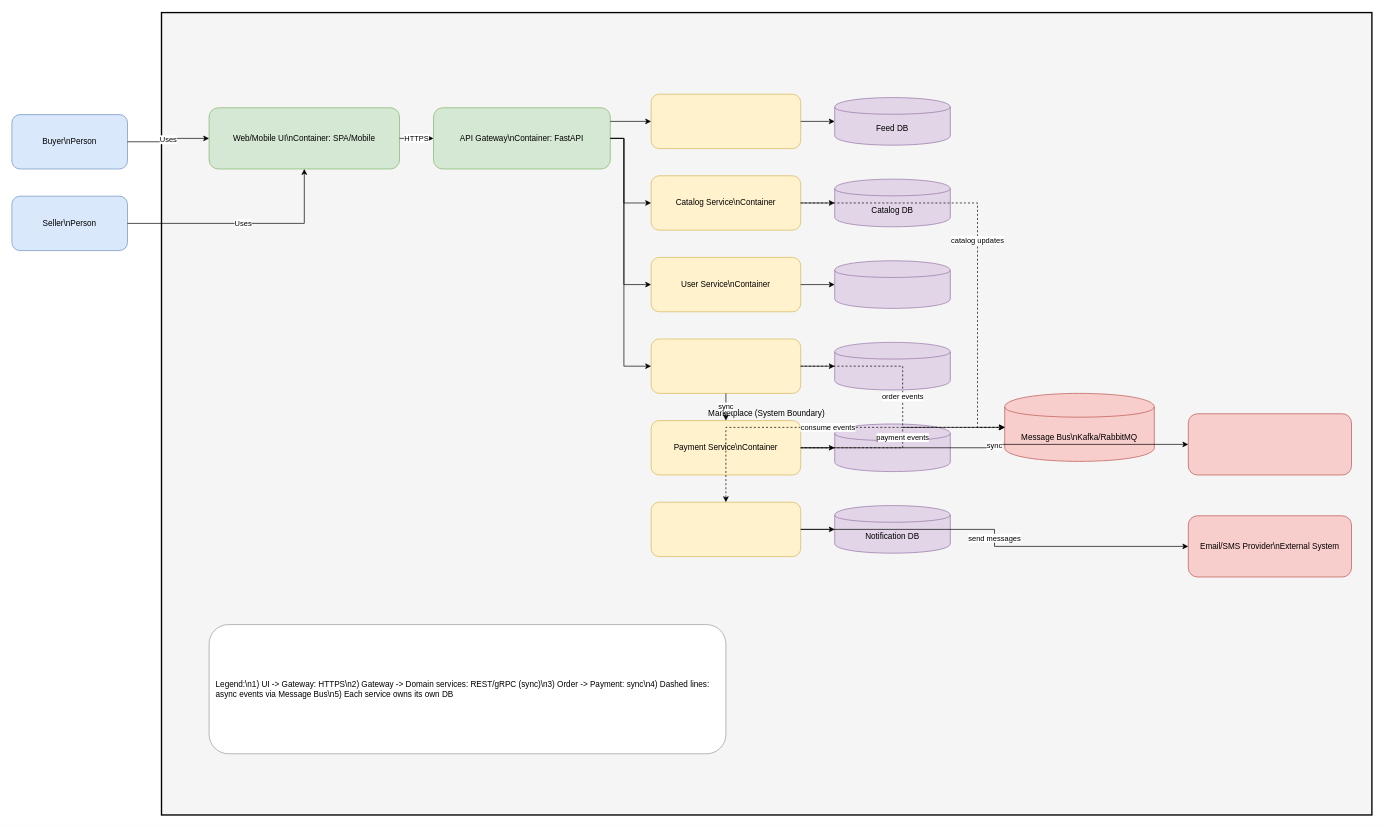
Image size: 1384x827. Some labels were removed from this diagram. Each missing label, with the box of its shape:
Feed Service\nContainer: (650, 94, 801, 149)
Notification Service\nContainer: (650, 502, 801, 557)
Order DB: (834, 342, 950, 390)
Order Service\nContainer: (650, 338, 801, 393)
Payment DB: (834, 423, 950, 472)
Payment Provider\nExternal System: (1188, 413, 1352, 475)
User DB: (834, 260, 950, 308)
